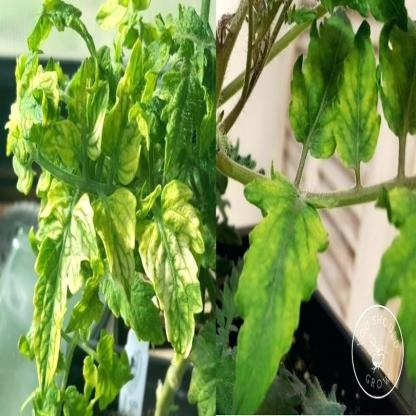tomato leaf yellow virus: (226, 162, 333, 408), (28, 178, 101, 395), (140, 182, 203, 367), (289, 12, 359, 176), (90, 191, 147, 320), (334, 26, 379, 174), (105, 50, 147, 202), (54, 68, 108, 178), (81, 336, 137, 410)
